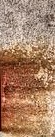Corrosion: (1, 44, 55, 137)
